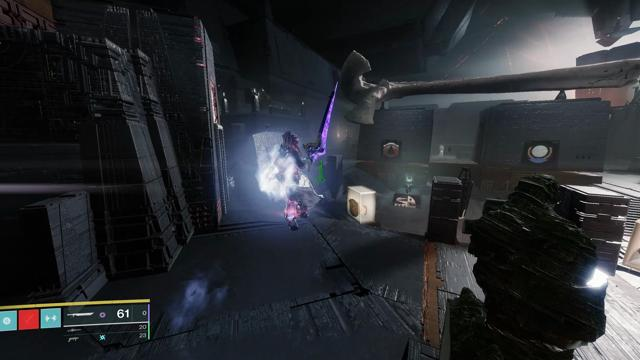pyramid: (383, 142, 399, 157)
traveler: (528, 144, 552, 164)
